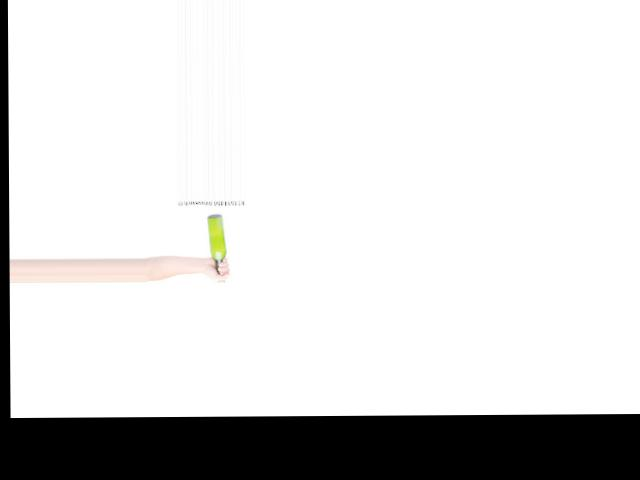beer: (206, 213, 226, 281)
